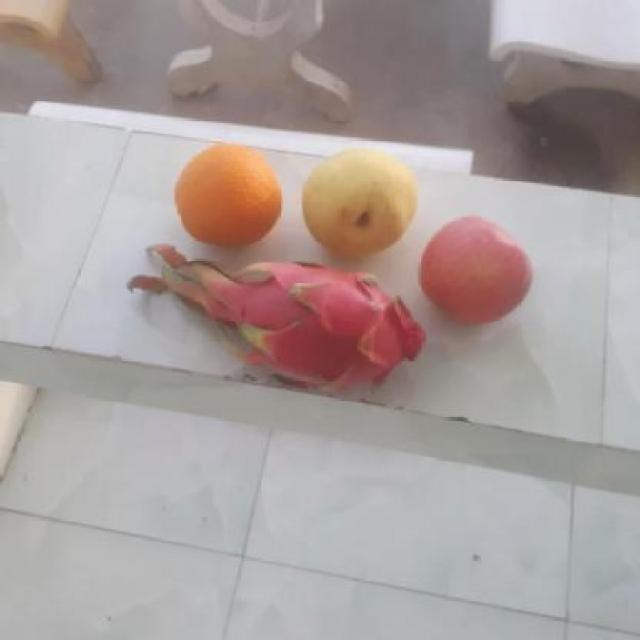dragon fruit: (224, 260, 438, 398)
oren: (168, 139, 283, 247)
pear: (296, 147, 426, 261)
